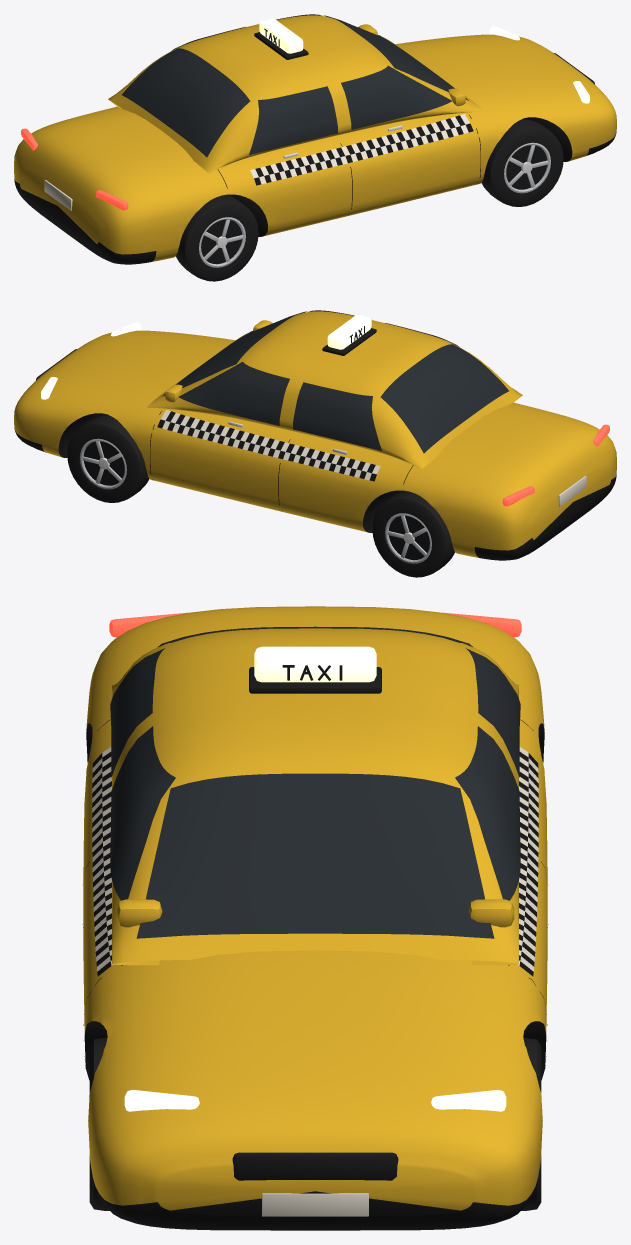
File: car_taxi.glb
3 renders of one model, top to bottom at view 1: azimuth 30°, elevation 25°; view 2: azimuth 150°, elevation 25°; view 3: azimuth 270°, elevation 25°, orthographic. The views are drawn at different scales.
Parts seen in each view (by area): view 1: Body_LOD0, Glass_LOD0, Cabin_LOD0, Tyre_LOD0.001, Tyre_LOD0.003, CheckW_LOD0, CheckB_LOD0, Barrel_LOD0.001, Barrel_LOD0.003, Sign_LOD0, Lip_LOD0.001, Lip_LOD0.003 (+2 smaller); view 2: Body_LOD0, Glass_LOD0, Cabin_LOD0, Tyre_LOD0, Tyre_LOD0.002, CheckW_LOD0, CheckB_LOD0, Barrel_LOD0, Barrel_LOD0.002, Sign_LOD0, Lip_LOD0, Lip_LOD0.002 (+2 smaller); view 3: Body_LOD0, Glass_LOD0, Cabin_LOD0, CheckB_LOD0, CheckW_LOD0, Grille_LOD0, Sign_LOD0, Plate_LOD0, SignBase_LOD0, Head_LOD0, Head_LOD0.001, Mirror_LOD0 (+3 smaller).
Boxes of the visible parts, left/top/right/bottom form: Body_LOD0: left=14, top=34, right=616, bottom=264; Glass_LOD0: left=122, top=14, right=468, bottom=157; Cabin_LOD0: left=108, top=15, right=484, bottom=173; Tyre_LOD0.001: left=481, top=119, right=563, bottom=206; Tyre_LOD0.003: left=175, top=195, right=258, bottom=281; CheckW_LOD0: left=250, top=114, right=469, bottom=184; CheckB_LOD0: left=254, top=115, right=473, bottom=185; Barrel_LOD0.001: left=506, top=145, right=547, bottom=189; Barrel_LOD0.003: left=201, top=219, right=241, bottom=264; Sign_LOD0: left=259, top=19, right=303, bottom=53; Lip_LOD0.001: left=504, top=142, right=550, bottom=193; Lip_LOD0.003: left=199, top=217, right=245, bottom=267; Body_LOD0: left=14, top=330, right=616, bottom=560; Glass_LOD0: left=162, top=310, right=508, bottom=453; Cabin_LOD0: left=146, top=311, right=522, bottom=469; Tyre_LOD0: left=67, top=415, right=149, bottom=502; Tyre_LOD0.002: left=372, top=491, right=455, bottom=577; CheckW_LOD0: left=161, top=410, right=380, bottom=480; CheckB_LOD0: left=157, top=411, right=376, bottom=481; Barrel_LOD0: left=83, top=441, right=124, bottom=485; Barrel_LOD0.002: left=389, top=515, right=429, bottom=560; Sign_LOD0: left=327, top=315, right=371, bottom=349; Lip_LOD0: left=80, top=438, right=126, bottom=489; Lip_LOD0.002: left=385, top=513, right=431, bottom=563; Body_LOD0: left=83, top=606, right=547, bottom=1230; Glass_LOD0: left=110, top=626, right=520, bottom=938; Cabin_LOD0: left=112, top=628, right=518, bottom=965; CheckB_LOD0: left=92, top=752, right=538, bottom=976; CheckW_LOD0: left=92, top=747, right=538, bottom=971; Grille_LOD0: left=232, top=1152, right=398, bottom=1180; Sign_LOD0: left=254, top=646, right=376, bottom=682; Plate_LOD0: left=262, top=1193, right=368, bottom=1216; SignBase_LOD0: left=249, top=667, right=381, bottom=693; Head_LOD0: left=431, top=1090, right=506, bottom=1111; Head_LOD0.001: left=124, top=1090, right=199, bottom=1111; Mirror_LOD0: left=468, top=899, right=514, bottom=927.
Size of what is drawn, in the model's own units: 4.69 by 1.58 by 1.83.
